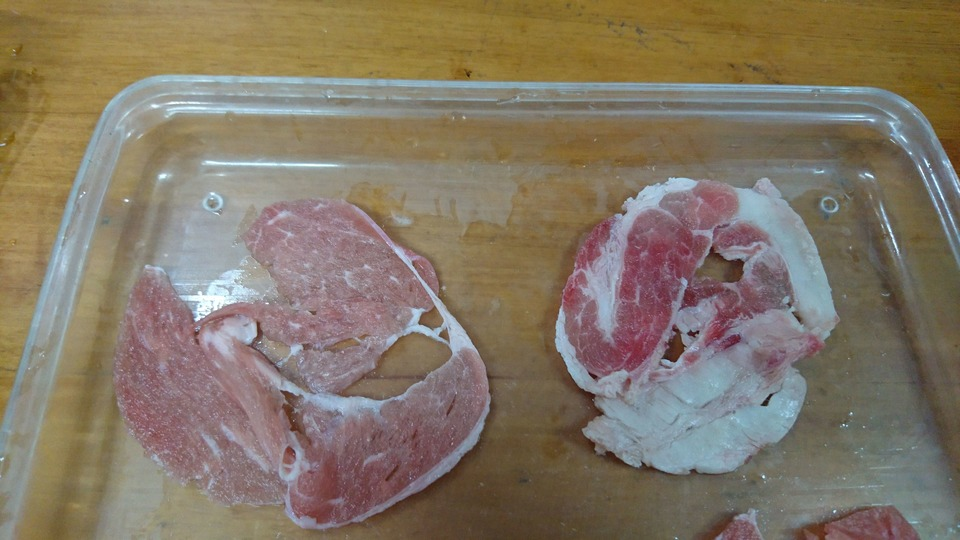restructured meat: (128, 196, 495, 507), (549, 146, 826, 482)
